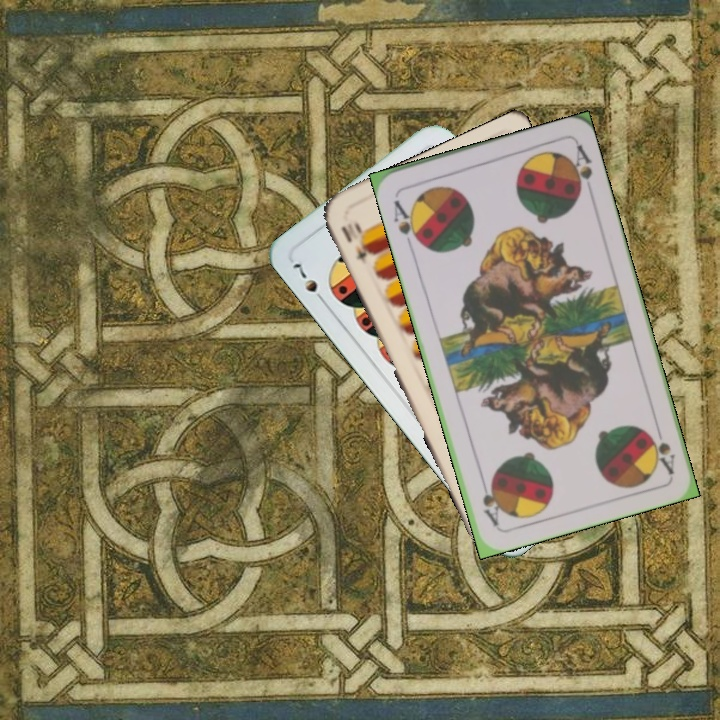E10: (337, 218, 376, 267)
S7: (288, 258, 329, 307)
SA: (644, 419, 678, 477), (389, 196, 424, 250)
